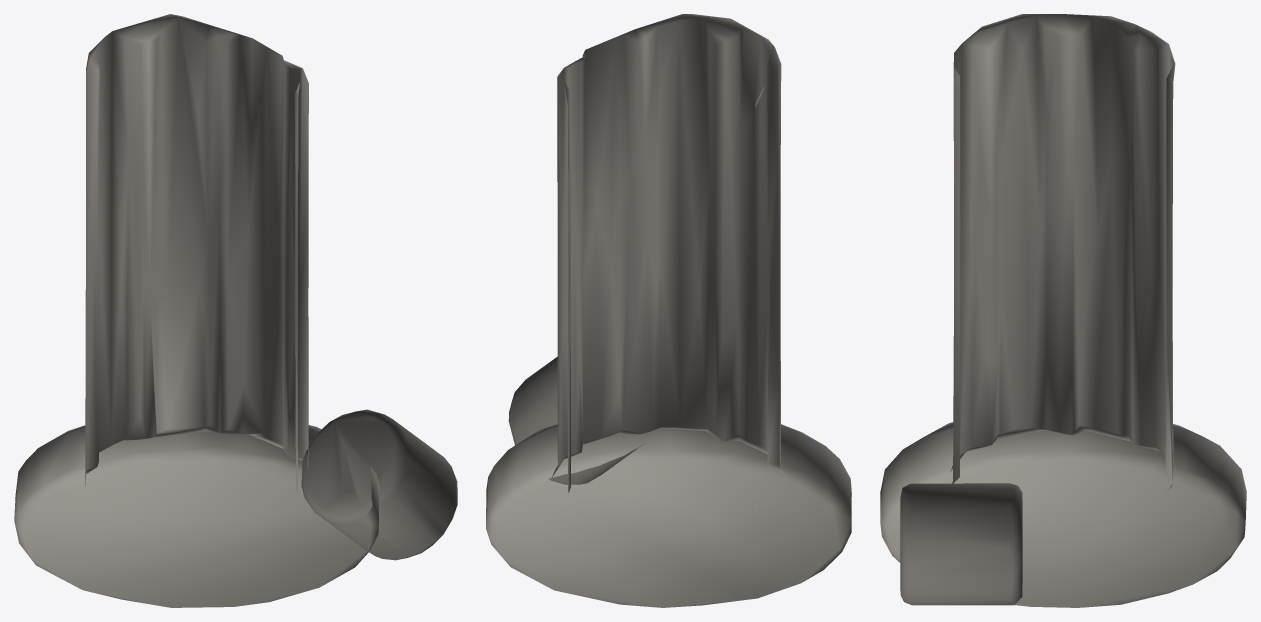
File: lm_pillar.glb
3 views of the same model, side by side, from view 1: azimuth 30°, elevation 25°; view 2: azimuth 150°, elevation 25°; view 3: azimuth 270°, elevation 25° (orthographic).
Visible parts, largest first — view 1: body; view 2: body; view 3: body.
Part boxes in pixels (x1=…): body: x1=14, y1=14, x2=457, y2=607; body: x1=486, y1=14, x2=851, y2=607; body: x1=880, y1=14, x2=1246, y2=607.
Bounding box in the file's own units: 1.95 × 2.6 × 1.8.
Materials: 1 (1 with a texture image).
